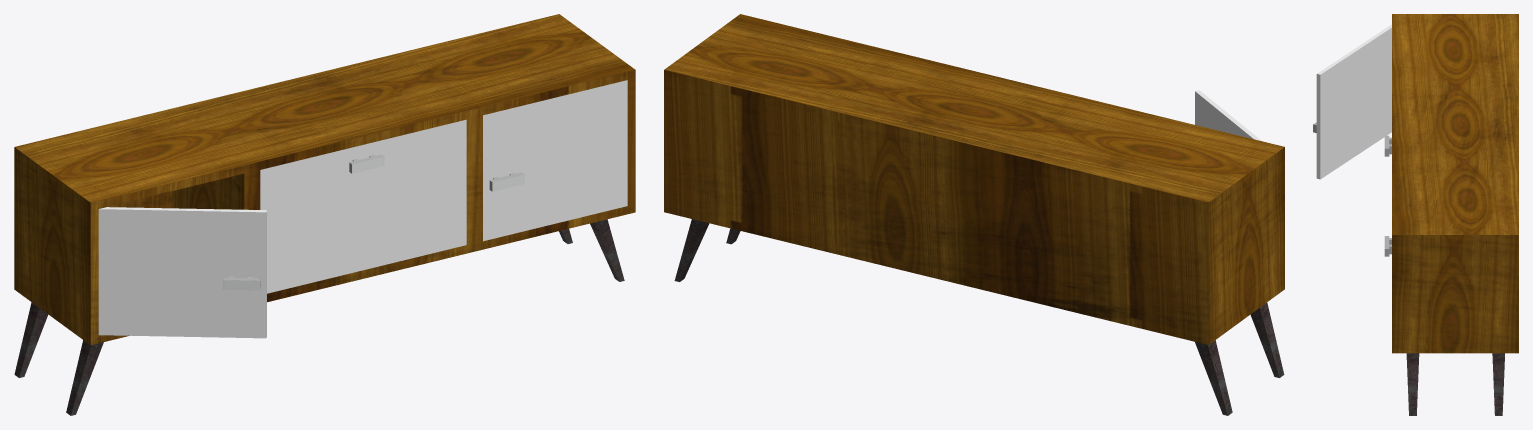
The model's file is modern_furniture.glb.
The picture shows the model from 3 angles, left to right: view 1: azimuth 30°, elevation 25°; view 2: azimuth 150°, elevation 25°; view 3: azimuth 270°, elevation 25°; orthographic projection. The views are drawn at different scales.
Parts seen in each view (by area): view 1: movel, Merged, Porta, pe; view 2: movel, Merged, Porta, pe; view 3: movel, Porta, Merged.
Boxes of the visible parts, <box> form: movel: <box>14,14,635,345</box>; Merged: <box>14,80,627,377</box>; Porta: <box>98,207,266,338</box>; pe: <box>66,340,103,415</box>; movel: <box>664,14,1284,344</box>; Merged: <box>674,219,1232,415</box>; Porta: <box>1195,90,1261,140</box>; pe: <box>1250,302,1284,377</box>; movel: <box>1392,14,1518,353</box>; Porta: <box>1316,24,1391,179</box>; Merged: <box>1384,135,1504,415</box>.
Bounding box in the file's own units: 4.07 × 1.53 × 1.57.
Materials: 2 (2 with a texture image).
